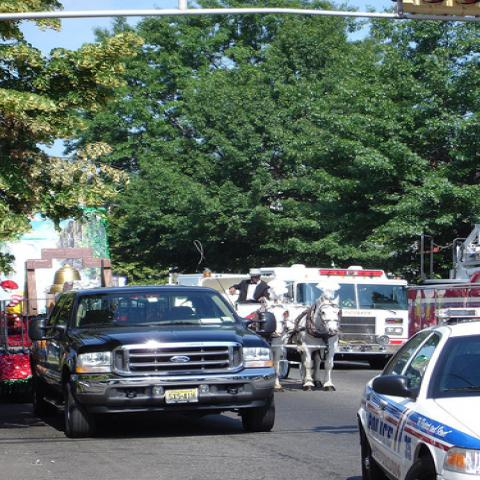car: (353, 320, 479, 473)
truck: (27, 291, 281, 435), (258, 263, 411, 369), (402, 264, 479, 333)
